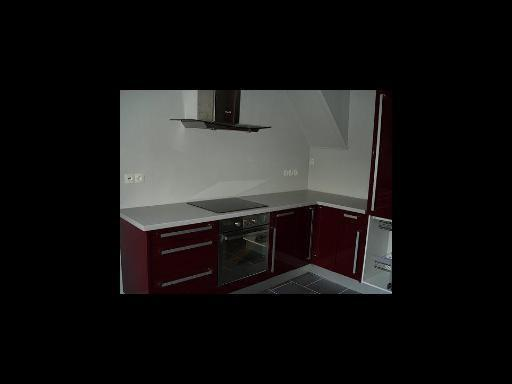Electrodomestico: (215, 203, 269, 291)
